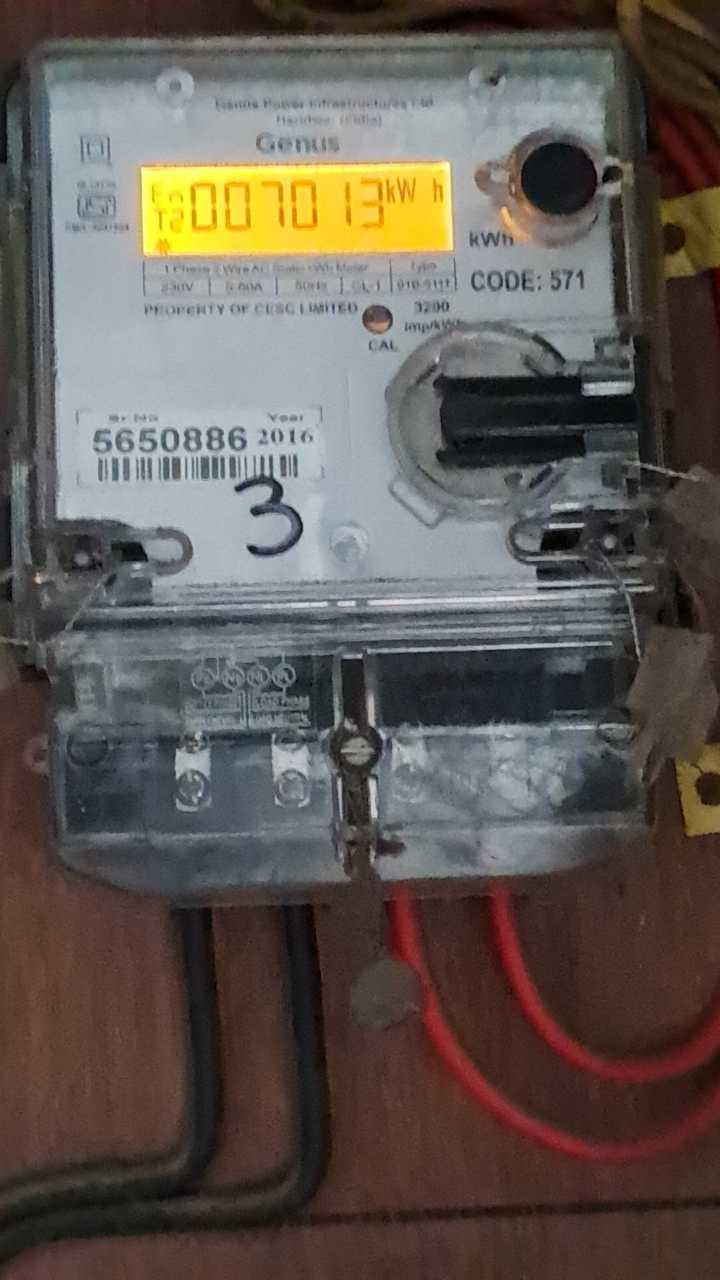meter_readings: (188, 171, 385, 239)
serial_number: (90, 428, 253, 454)
